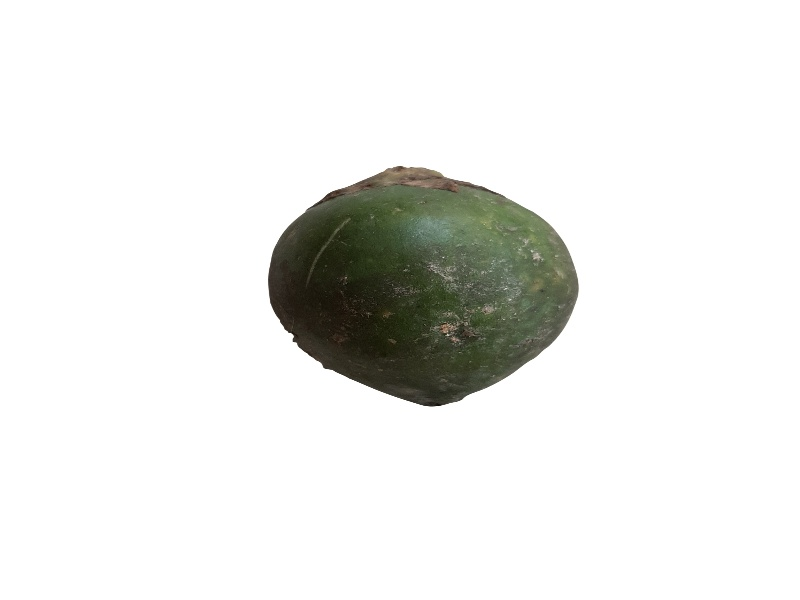arecanut: (258, 155, 597, 420)
